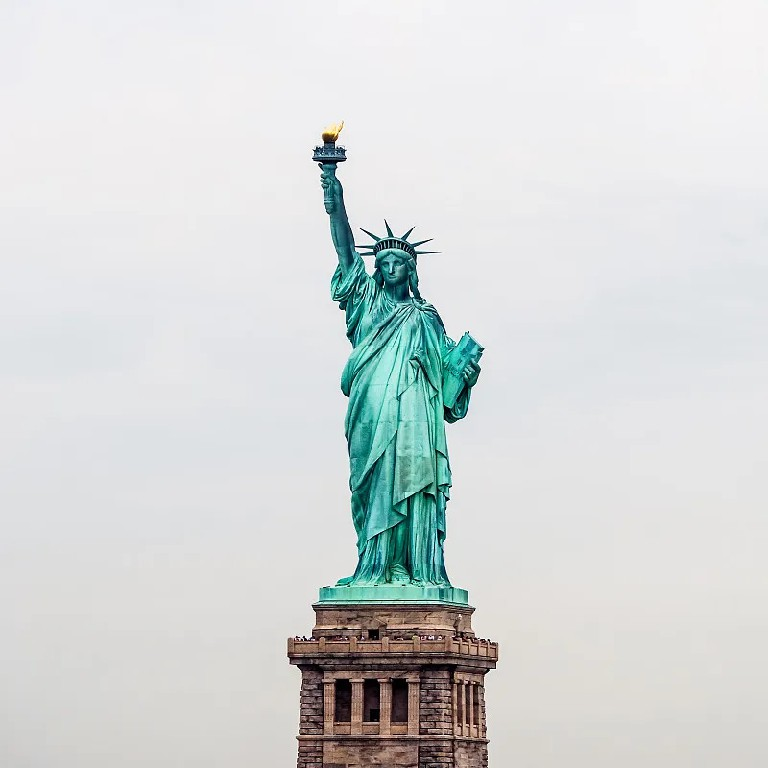SL: (288, 120, 500, 768)
